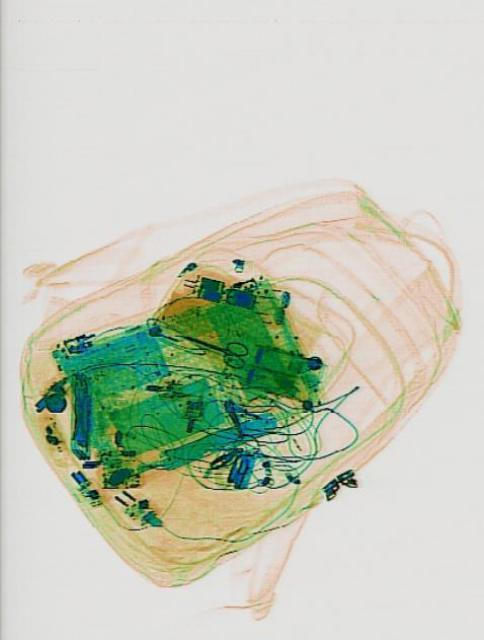Scissors: (177, 321, 247, 371)
